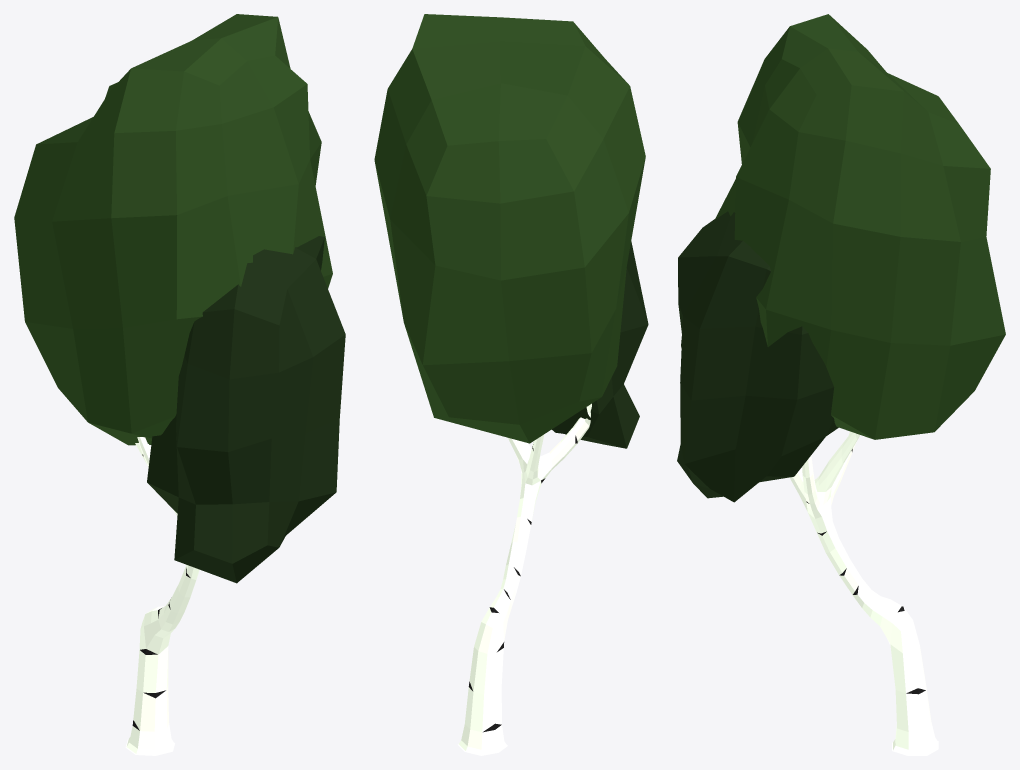
Rendered from prop_BirchTree_2.glb.
3 renders of one model, left to right at view 1: azimuth 30°, elevation 25°; view 2: azimuth 150°, elevation 25°; view 3: azimuth 270°, elevation 25°, orthographic. The views are drawn at different scales.
Visible parts, largest first — view 1: BirchTree_2; view 2: BirchTree_2; view 3: BirchTree_2.
Boxes of the visible parts, x1,y1,x2,y2 form: BirchTree_2: (14,14,345,755); BirchTree_2: (374,14,648,755); BirchTree_2: (677,14,1005,755).
Bounding box in the file's own units: 1.47 × 4.03 × 1.69.
